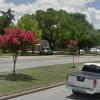Tree: (10, 3, 97, 52)
